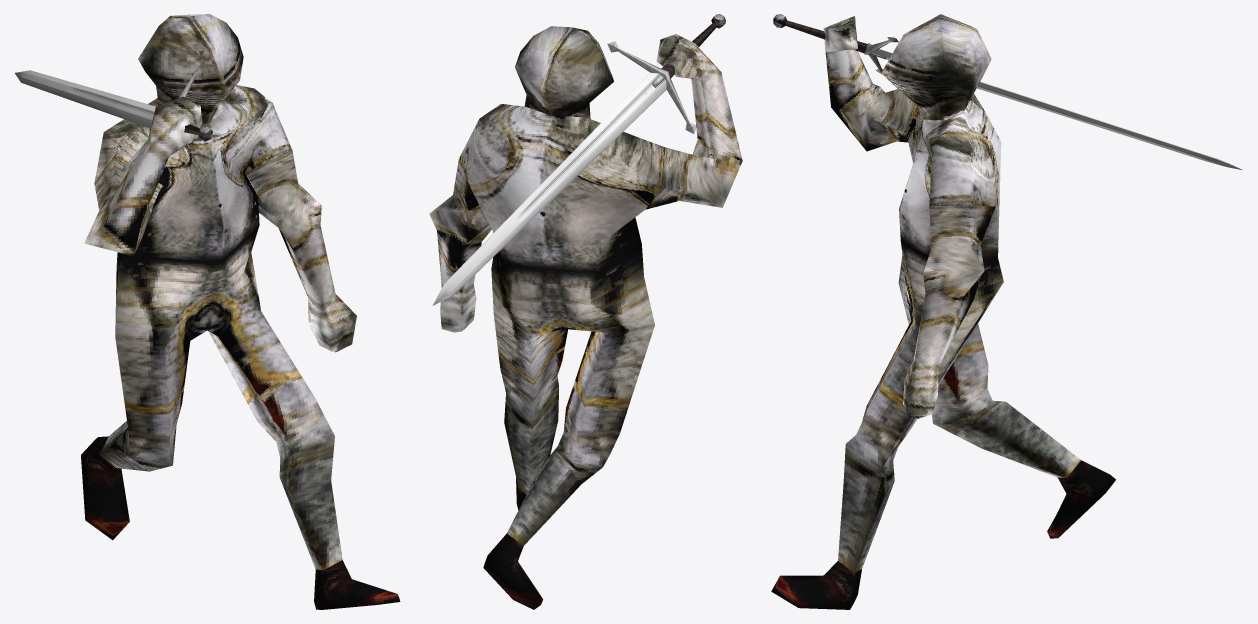
Rendered from k_walk3.glb.
3 renders of one model, left to right at view 1: azimuth 30°, elevation 25°; view 2: azimuth 150°, elevation 25°; view 3: azimuth 270°, elevation 25°, orthographic. The views are drawn at different scales.
Size of the model in its own units: 0.8714 by 1.72 by 1.34.
2 materials, 2 textured.
